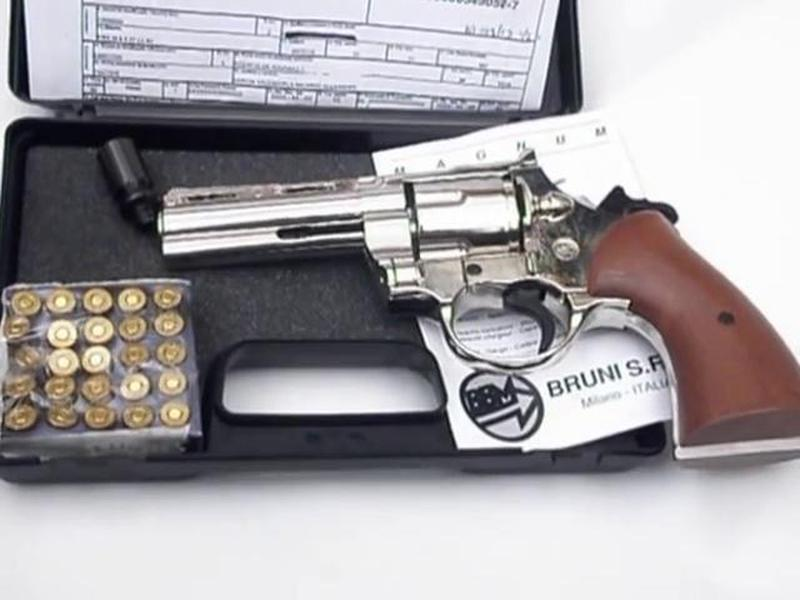Revolver: (163, 133, 675, 420)
